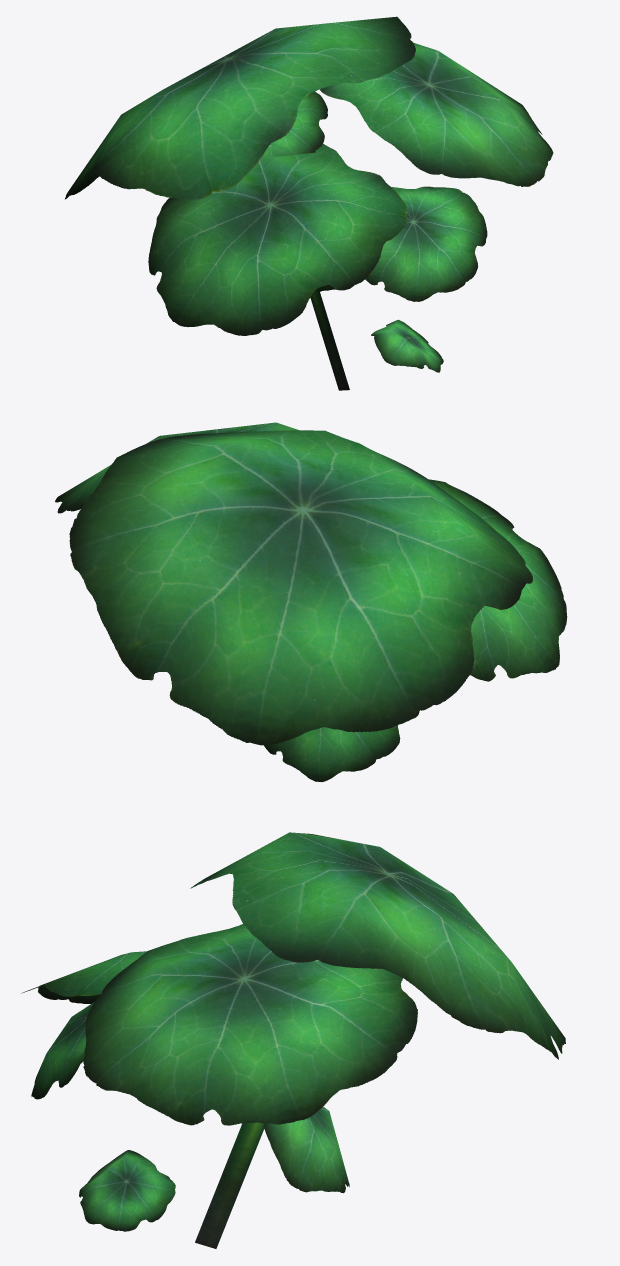
The model's file is leaflarge_lod1.fbx.
3 renders of one model, top to bottom at view 1: azimuth 30°, elevation 25°; view 2: azimuth 150°, elevation 25°; view 3: azimuth 270°, elevation 25°, orthographic. The views are drawn at different scales.
Parts seen in each view (by area): view 1: Mesh Object; view 2: Mesh Object; view 3: Mesh Object.
Boxes of the visible parts, bbox=[...] form: Mesh Object: bbox=[65, 16, 553, 390]; Mesh Object: bbox=[55, 422, 567, 782]; Mesh Object: bbox=[21, 832, 565, 1248].
Bounding box in the file's own units: 1.54 × 1.02 × 1.43.
